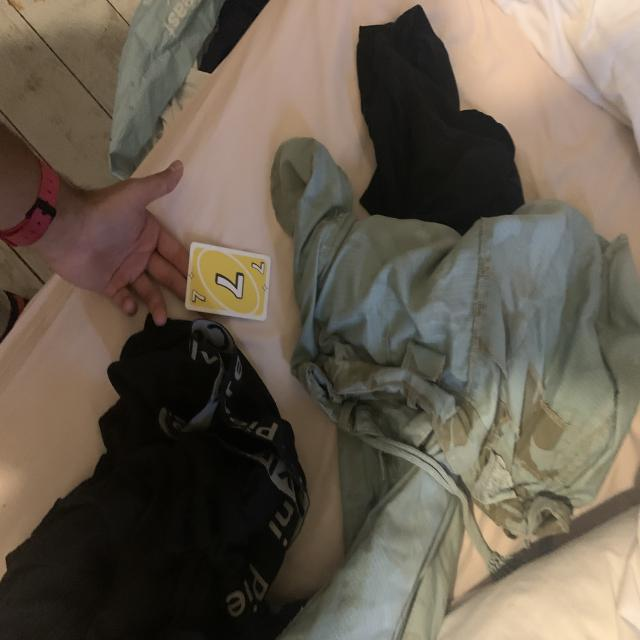lyellow-7: (187, 284, 212, 306)
